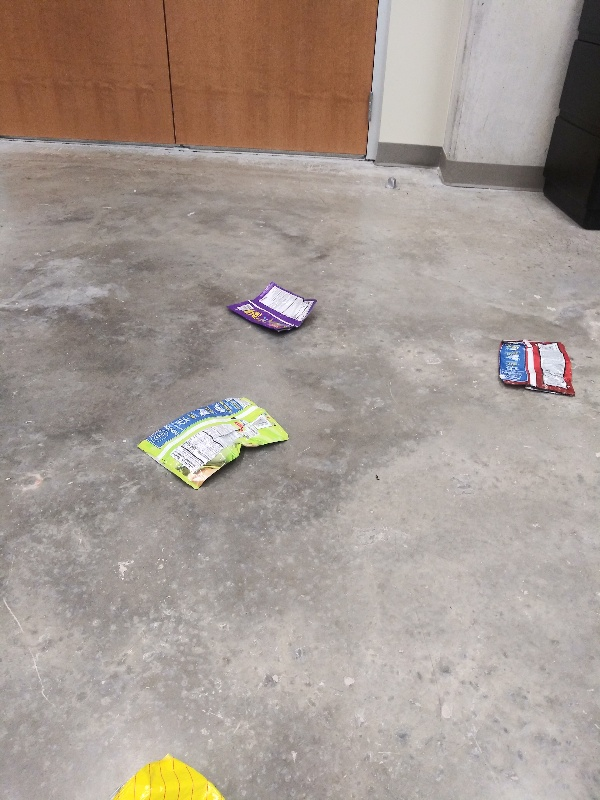bag: (137, 392, 293, 492), (108, 747, 244, 800), (222, 278, 319, 341), (490, 334, 580, 401)
